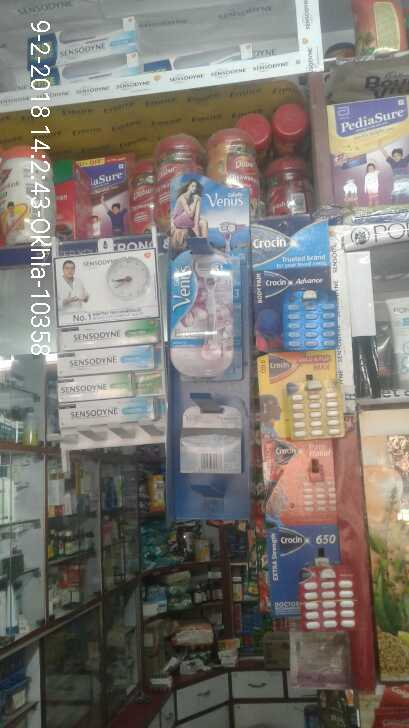venus: (167, 246, 238, 380)
